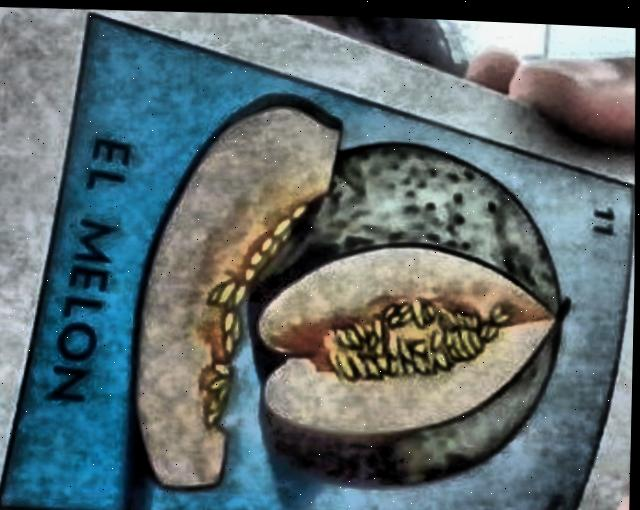El Melon: (0, 15, 634, 510)
